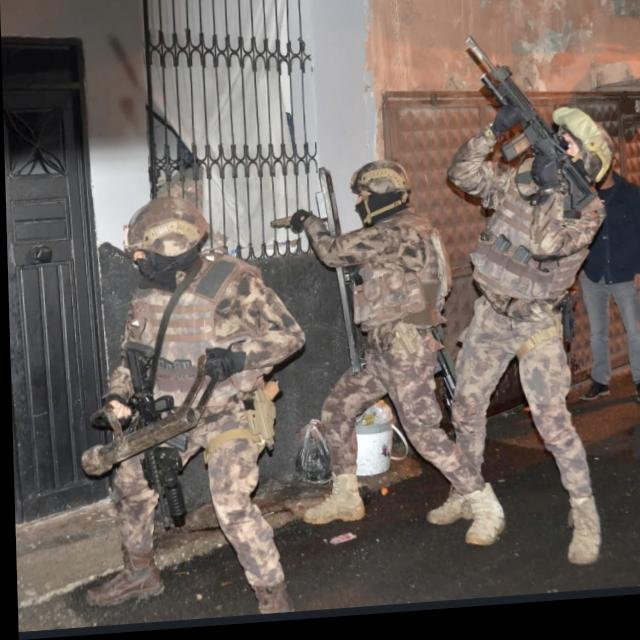poh_personel: (69, 187, 313, 636), (416, 112, 622, 585), (292, 157, 498, 562)
